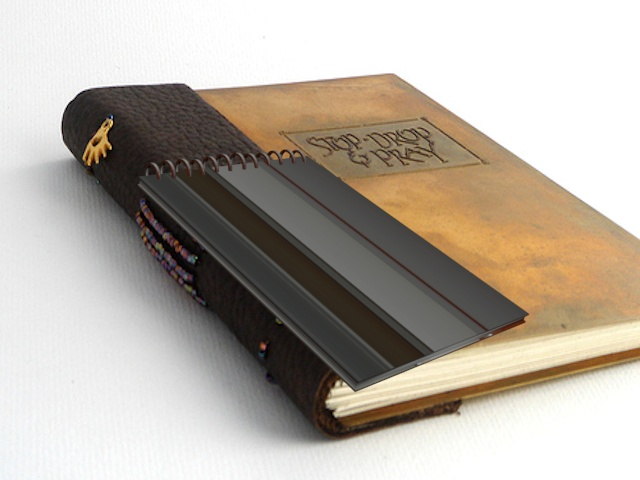paper_notebook: (129, 144, 536, 400)
